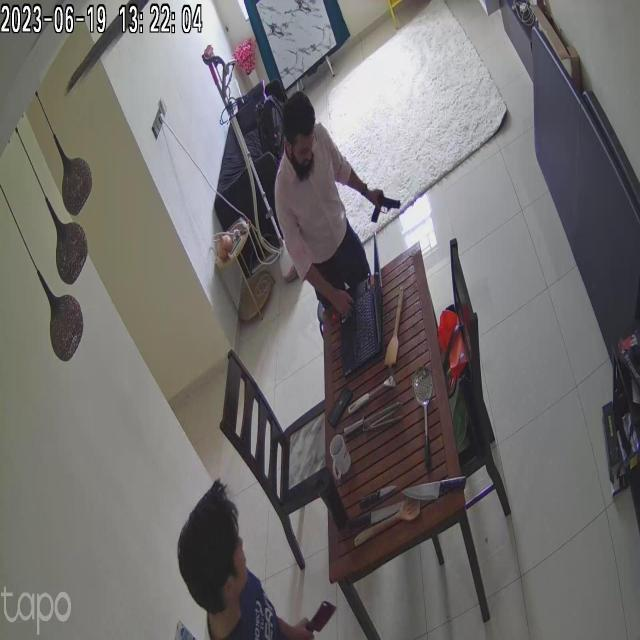Gun: (366, 185, 406, 229)
Knife: (401, 475, 470, 502)
